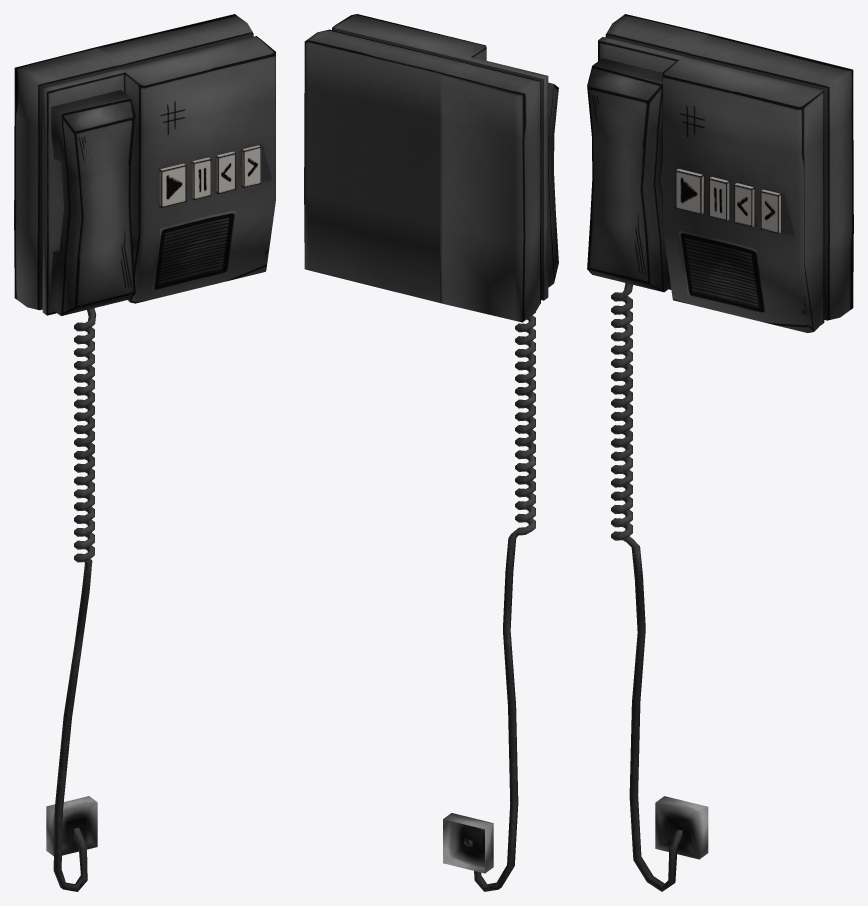
Rendered from AnswerMachine.fbx.
3 renders of one model, left to right at view 1: azimuth 30°, elevation 25°; view 2: azimuth 150°, elevation 25°; view 3: azimuth 330°, elevation 25°, orthographic. The views are drawn at different scales.
Visible parts, largest first — view 1: AnswerMachine; view 2: AnswerMachine; view 3: AnswerMachine.
Boxes of the visible parts, box(x1,y1,x2,y2) form: AnswerMachine: box(14, 14, 275, 891); AnswerMachine: box(304, 14, 558, 891); AnswerMachine: box(587, 14, 853, 891).
Bounding box in the file's own units: 0.3118 × 1.11 × 0.1282.
